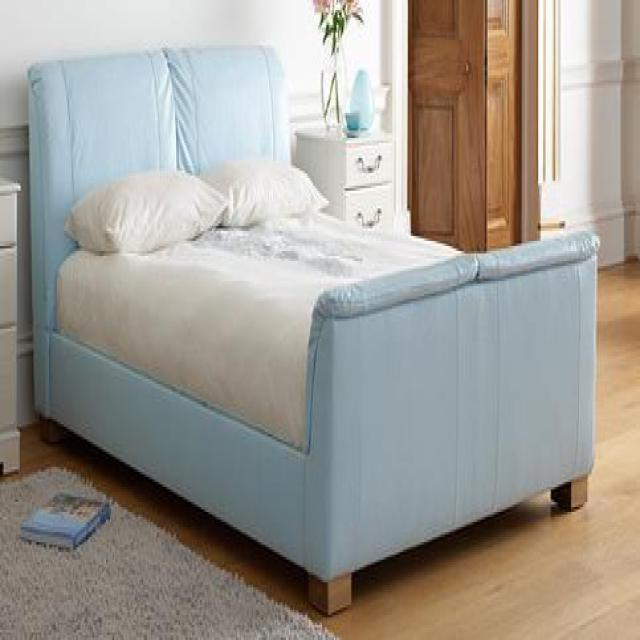bed: (25, 40, 600, 615)
